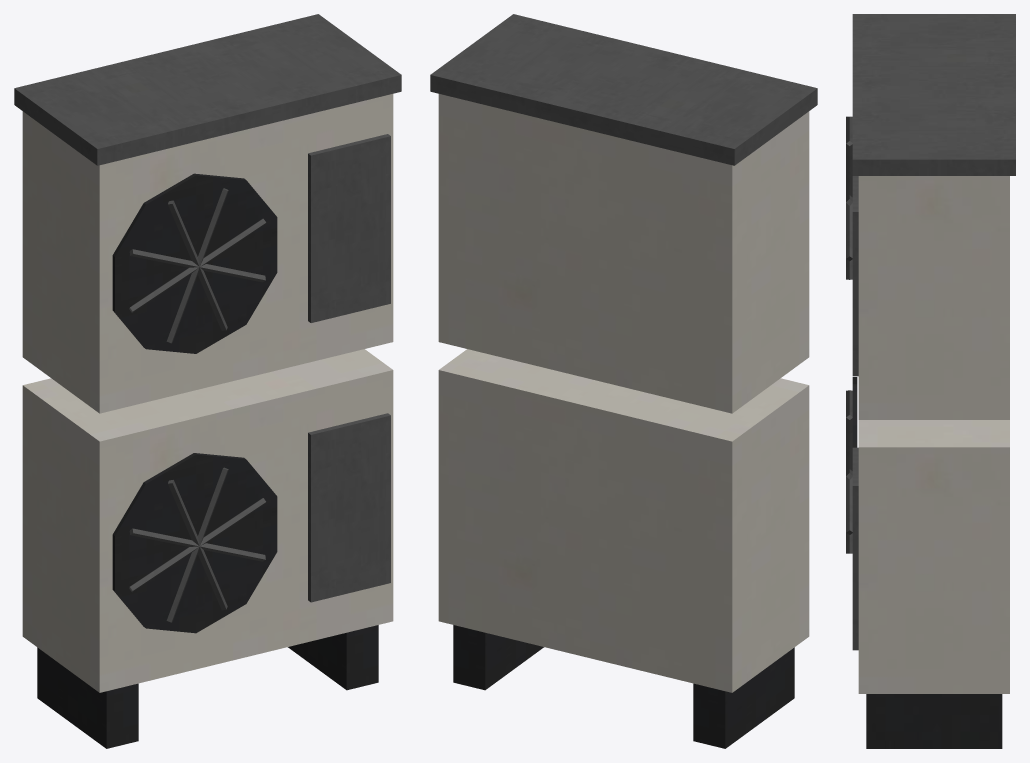
Rendered from ac_unit_01.glb.
3 views of the same model, side by side, from view 1: azimuth 30°, elevation 25°; view 2: azimuth 150°, elevation 25°; view 3: azimuth 270°, elevation 25° (orthographic).
Visible parts, largest first — view 1: ac_unit_01; view 2: ac_unit_01; view 3: ac_unit_01.
Boxes of the visible parts, box(x1,y1,x2,y2) form: ac_unit_01: box(14, 14, 401, 748); ac_unit_01: box(430, 14, 817, 748); ac_unit_01: box(846, 14, 1015, 748).
Bounding box in the file's own units: 1.14 × 2.18 × 0.562.
3 materials, 3 textured.
